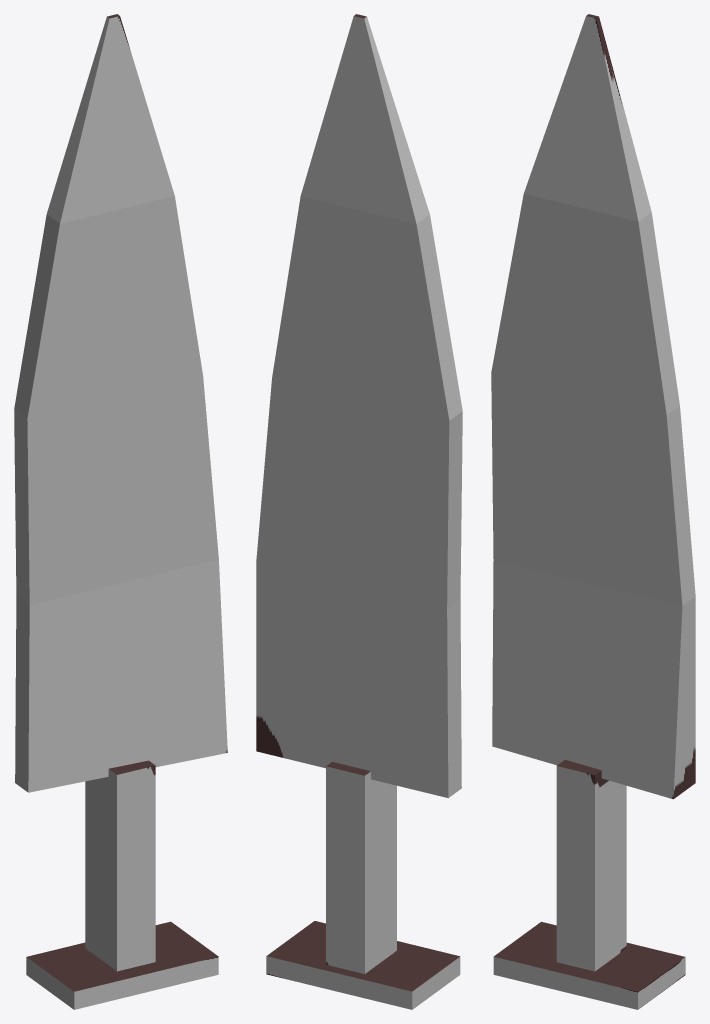
The model's file is sord.obj.
3 views of the same model, side by side, from view 1: azimuth 30°, elevation 25°; view 2: azimuth 150°, elevation 25°; view 3: azimuth 330°, elevation 25° (orthographic).
Visible parts, largest first — view 1: Cube; view 2: Cube; view 3: Cube.
Part boxes in pixels (x1,y1,x2,y2): Cube: [14, 14, 227, 1009]; Cube: [256, 14, 462, 1009]; Cube: [491, 14, 695, 1009].
Size of the model in its own units: 1.45 by 6.91 by 0.627.
